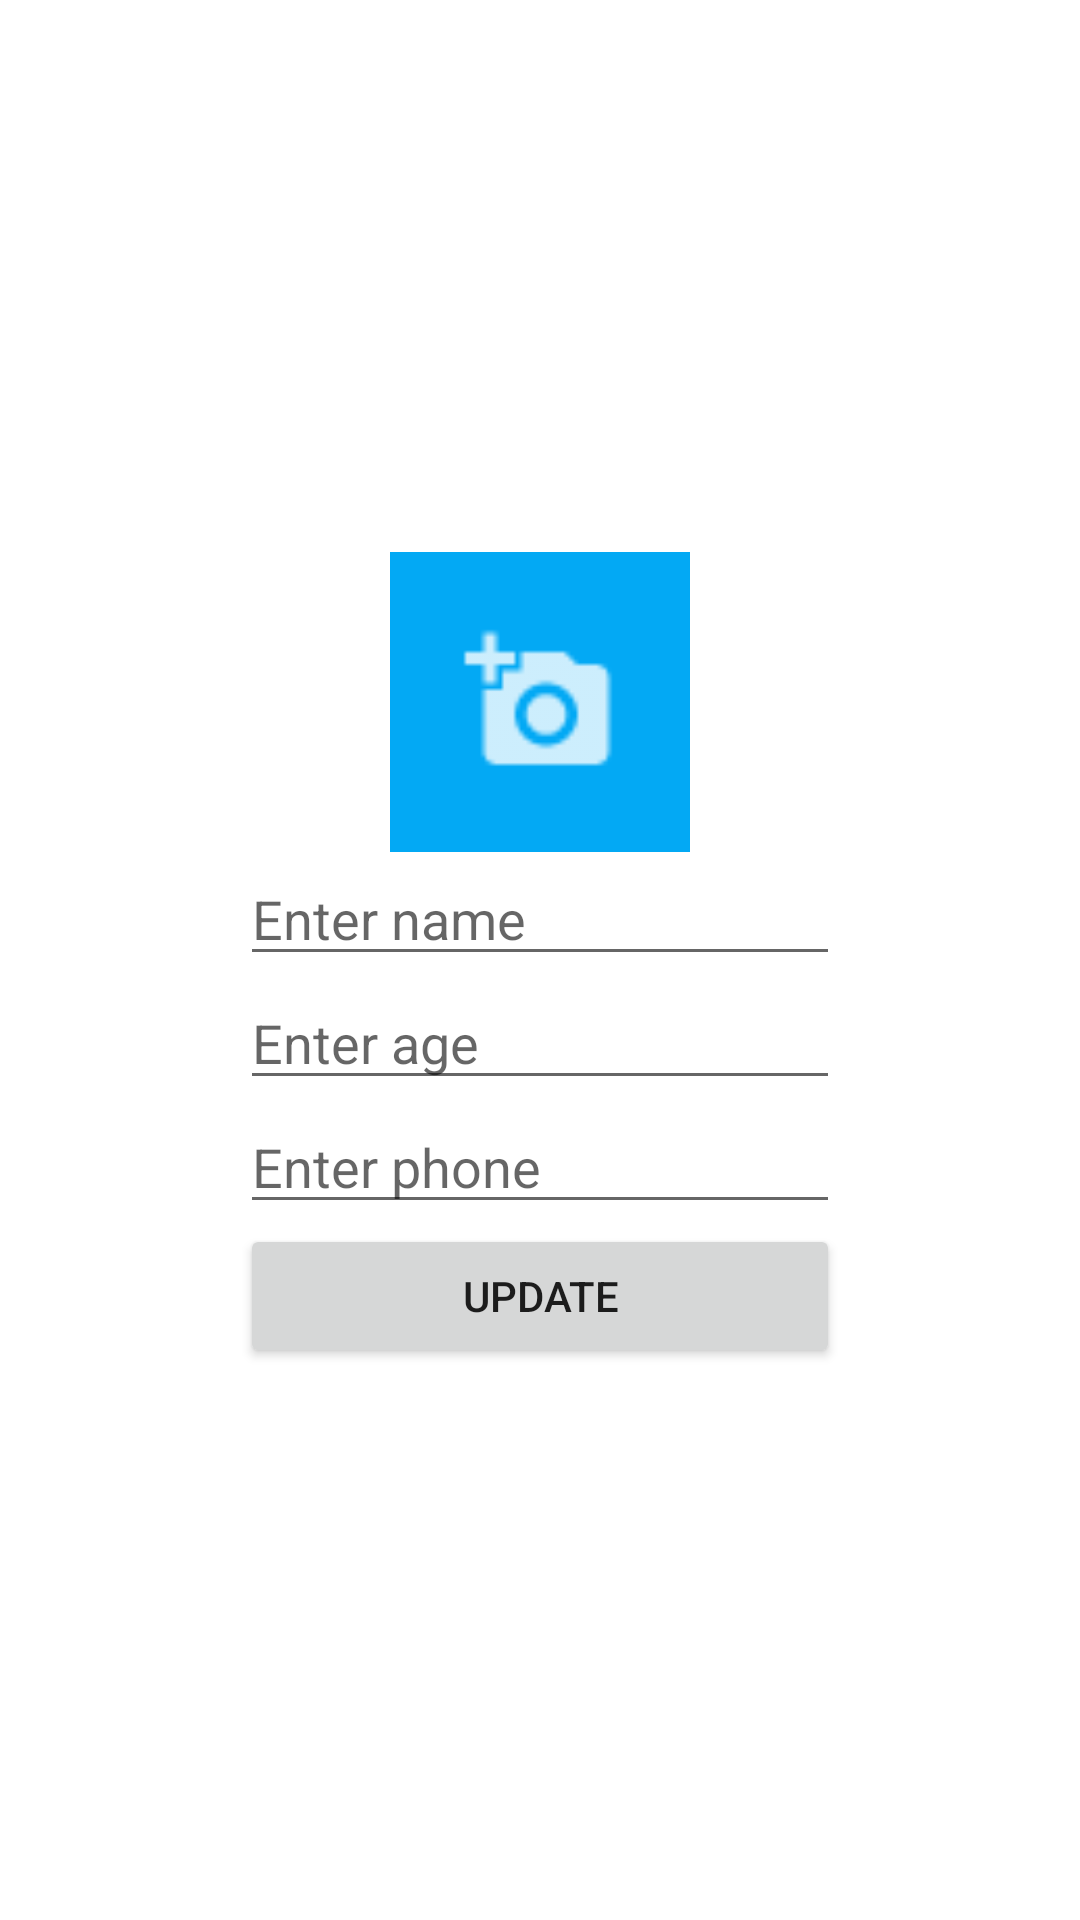

Icons on this 1080w x 1920h Android screen, each with its box as (x1, y1, x2, y2):
add photo: (390, 552, 690, 852)
